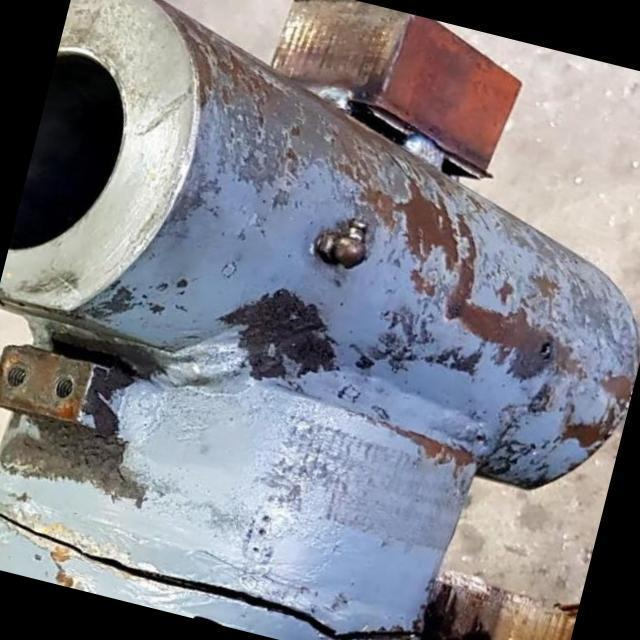defect: (0, 508, 439, 640)
